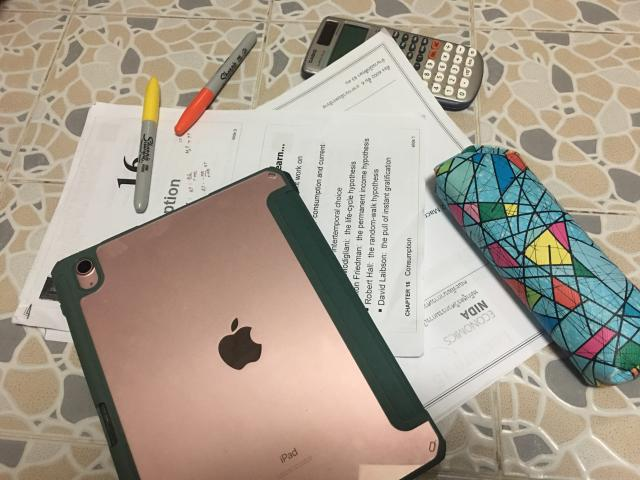Pen: (175, 31, 258, 135), (134, 78, 159, 212)
paper: (12, 31, 605, 419)
